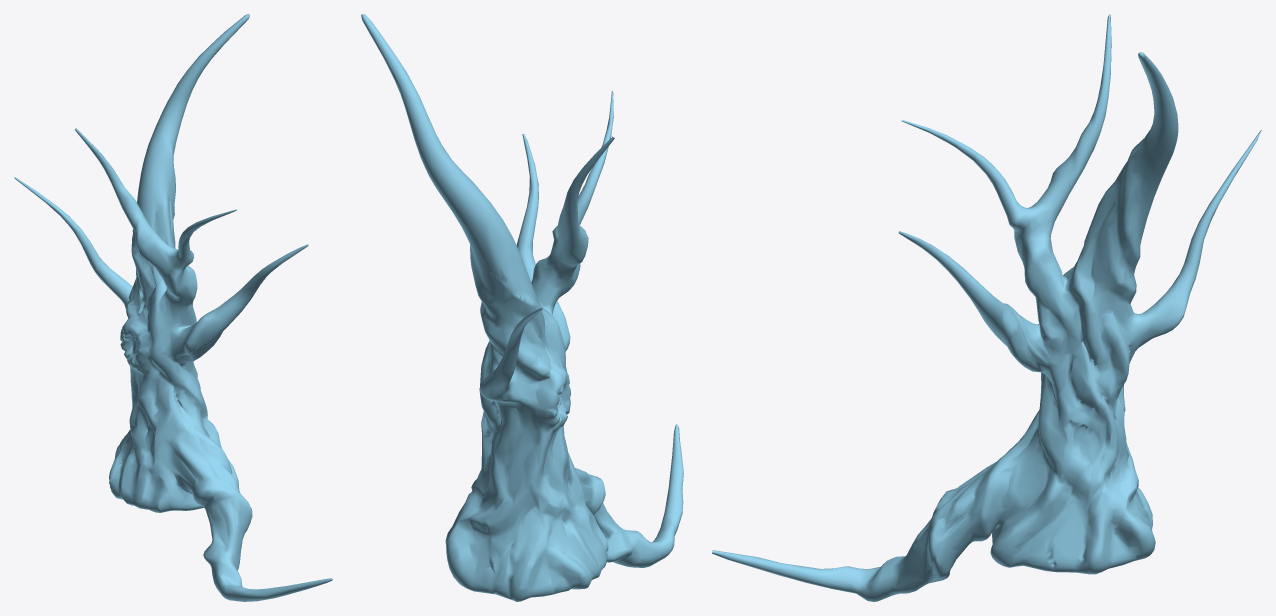
File: tree02.fbx
3 views of the same model, side by side, from view 1: azimuth 30°, elevation 25°; view 2: azimuth 150°, elevation 25°; view 3: azimuth 270°, elevation 25° (orthographic). The views are drawn at different scales.
Visible parts, largest first — view 1: pCylinder1; view 2: pCylinder1; view 3: pCylinder1.
Boxes of the visible parts, x1,y1,x2,y2 form: pCylinder1: (14,14,332,601); pCylinder1: (361,14,683,601); pCylinder1: (712,14,1261,601).
Size of the model in its own units: 0.1371 by 0.3325 by 0.2659.
